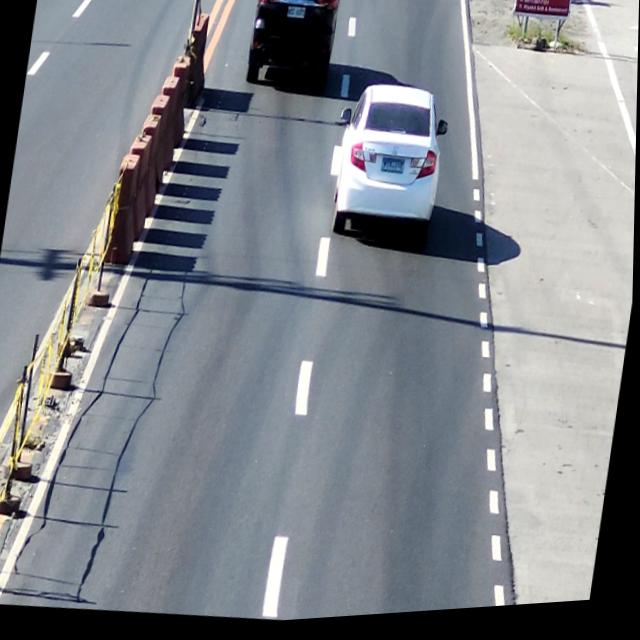Car: (330, 81, 455, 257), (239, 0, 346, 102)
License-Plate: (381, 161, 409, 185), (285, 7, 307, 25)
